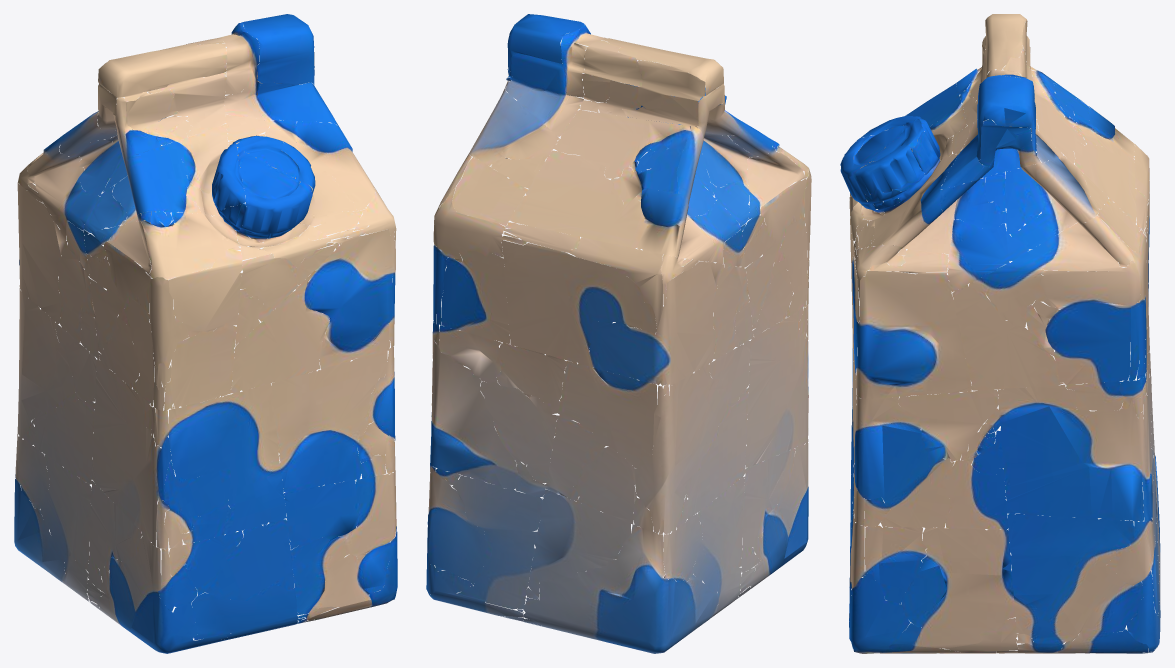
The model's file is carton_leche.glb.
3 views of the same model, side by side, from view 1: azimuth 30°, elevation 25°; view 2: azimuth 150°, elevation 25°; view 3: azimuth 270°, elevation 25° (orthographic).
Visible parts, largest first — view 1: tripo_node_96e6704d-e684-48f2-bc9d-f34721a2f5b7; view 2: tripo_node_96e6704d-e684-48f2-bc9d-f34721a2f5b7; view 3: tripo_node_96e6704d-e684-48f2-bc9d-f34721a2f5b7.
Boxes of the visible parts, x1,y1,x2,y2 form: tripo_node_96e6704d-e684-48f2-bc9d-f34721a2f5b7: [14, 14, 397, 653]; tripo_node_96e6704d-e684-48f2-bc9d-f34721a2f5b7: [426, 14, 811, 653]; tripo_node_96e6704d-e684-48f2-bc9d-f34721a2f5b7: [840, 14, 1160, 653].
Bounding box in the file's own units: 0.4663 × 0.9799 × 0.5231.
Materials: 1 (1 with a texture image).
